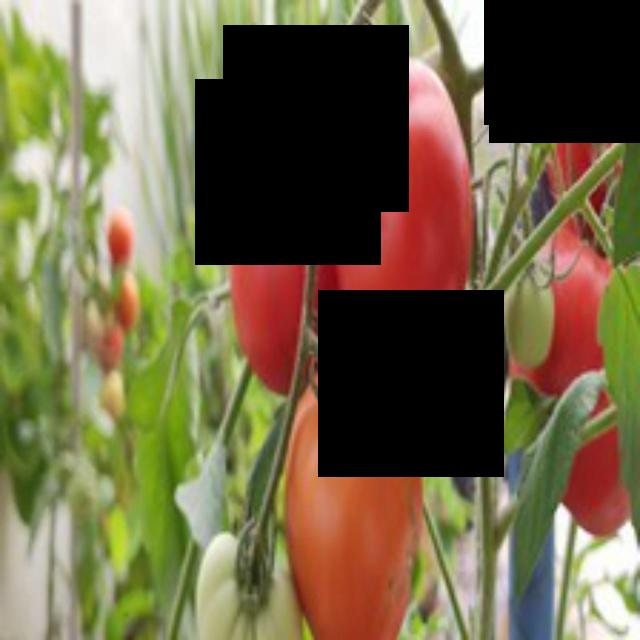tomato: (313, 64, 462, 392), (274, 346, 428, 636), (217, 101, 348, 384)
